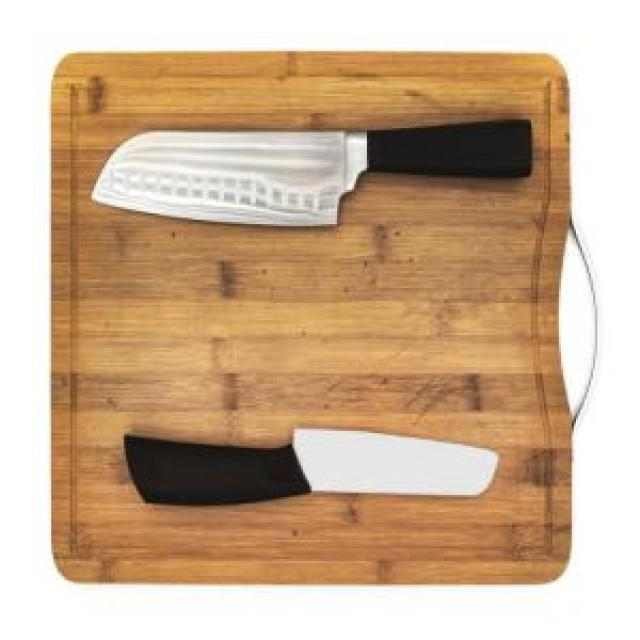knife: (90, 113, 538, 235), (120, 420, 502, 509)
